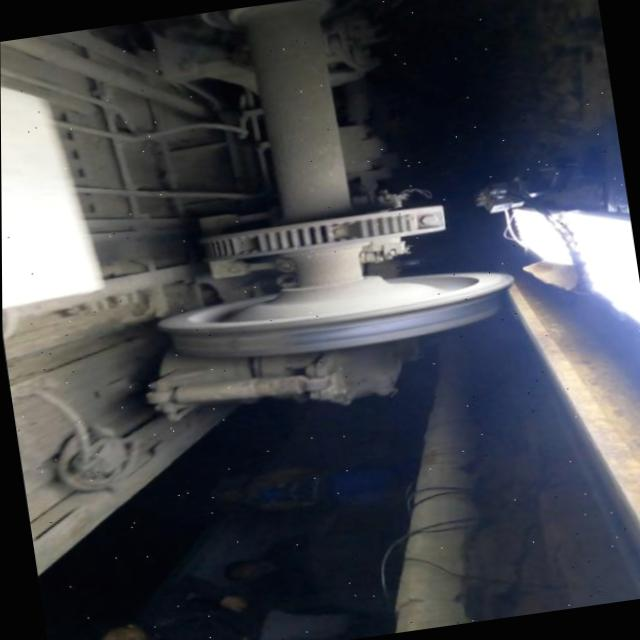Discoloration: (289, 323, 373, 348)
Shelling: (172, 334, 289, 351)
Wheel: (156, 272, 510, 358)
